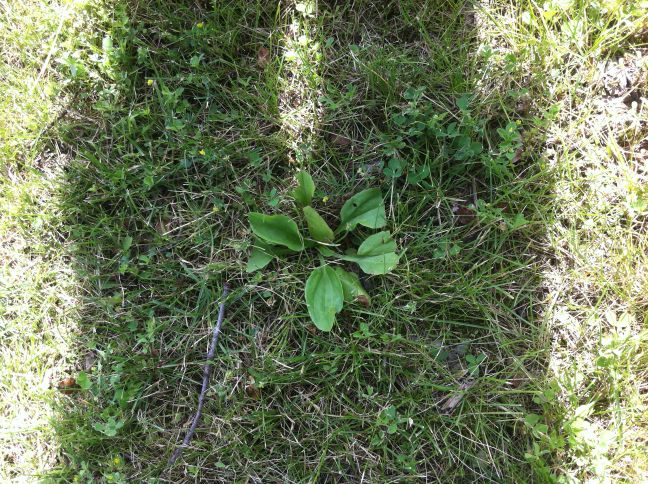weed1: (241, 168, 408, 336)
